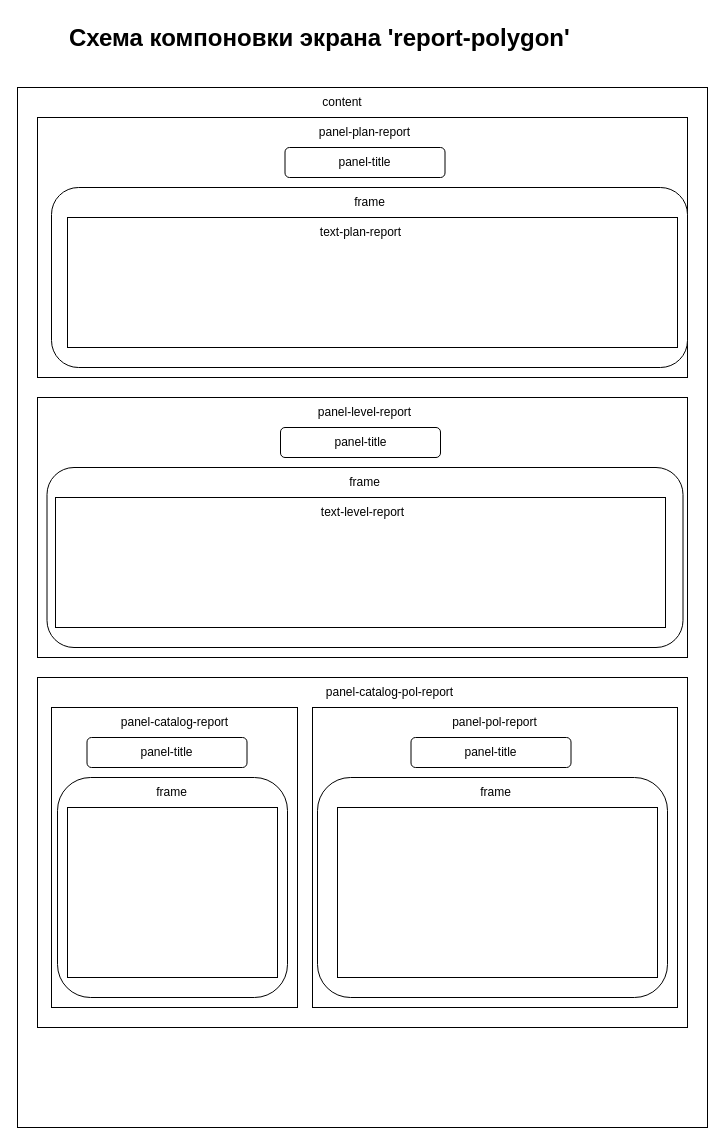
The diagram is 725 pixels wide and 1145 high, and some of its shapes have lost their labels. Each missing label, with the centre of its shape:
text-catalog-report: (172,892)
text-pol-report: (497,892)
